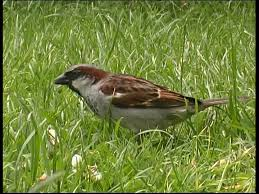hsparrow: (46, 65, 231, 143)
